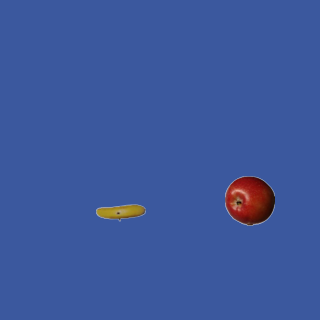Apple Braeburn: (224, 175, 274, 225)
Banana: (95, 187, 145, 237)
